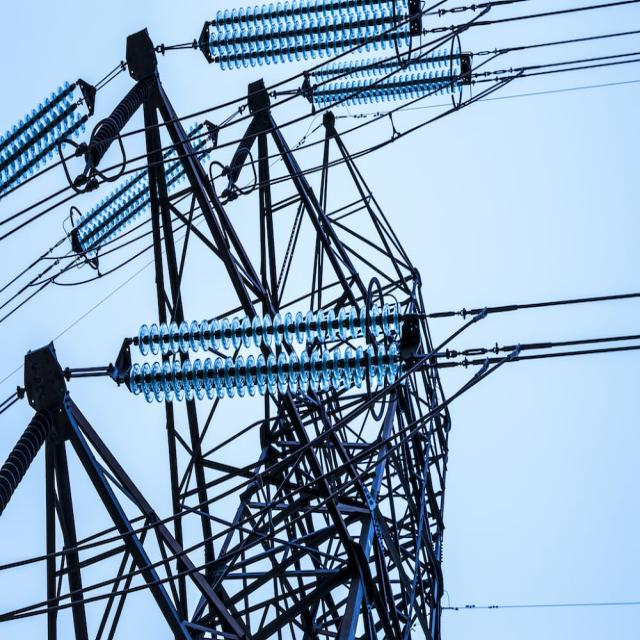insulator: (105, 290, 463, 438), (81, 115, 209, 266), (299, 49, 501, 126), (208, 5, 432, 61)
